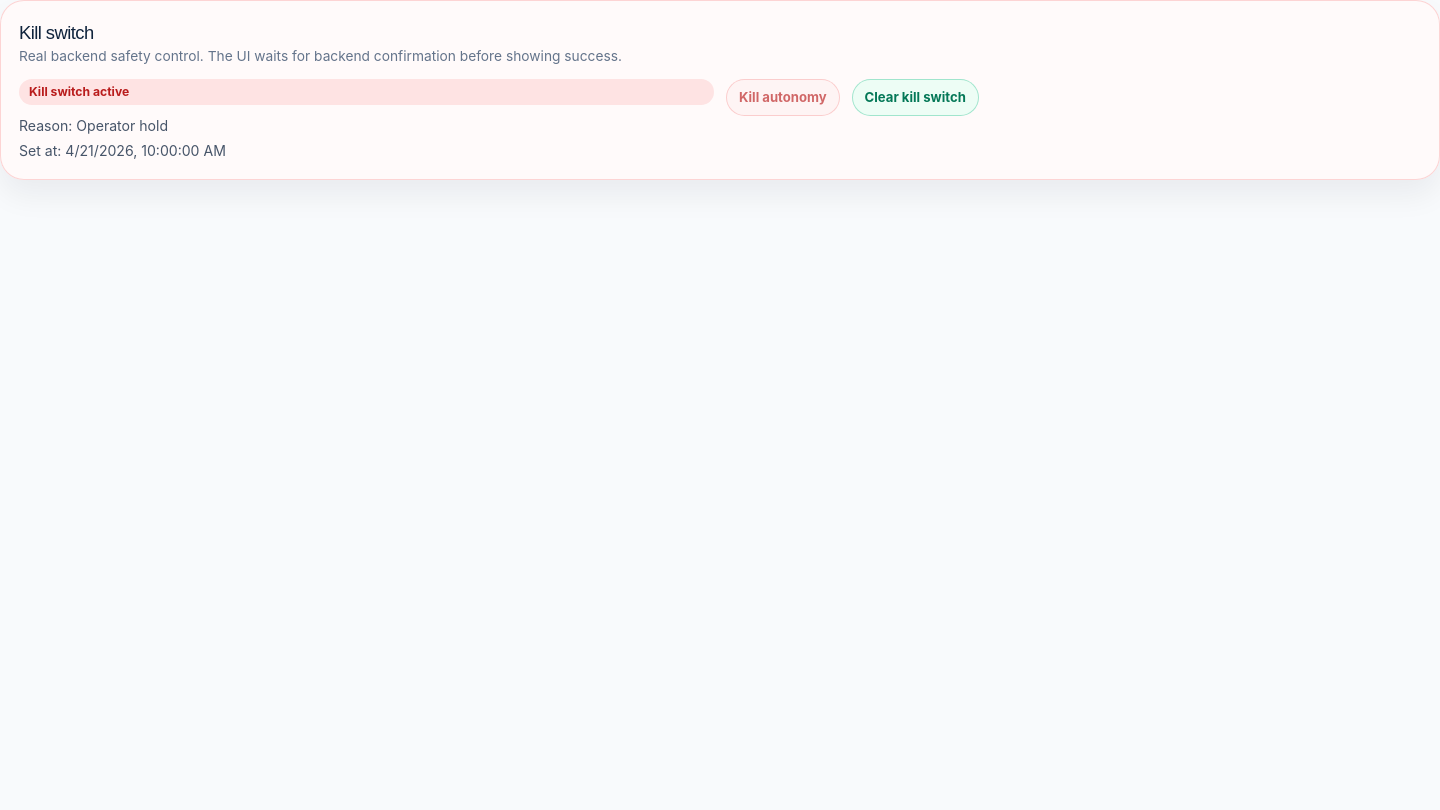
Test: opens dialog on Clear kill switch and calls onSetKillSwitch with null reason
The width and height of the screenshot is (1440, 810).
Later steps or results of the test are not shown.
Check: the button "Kill autonomy" is disabled, box [726, 79, 840, 116]
What coordinates should you click on to do the following:
click the button "Clear kill switch"
I would click on:
 (915, 97)
Its box is [852, 79, 979, 116].
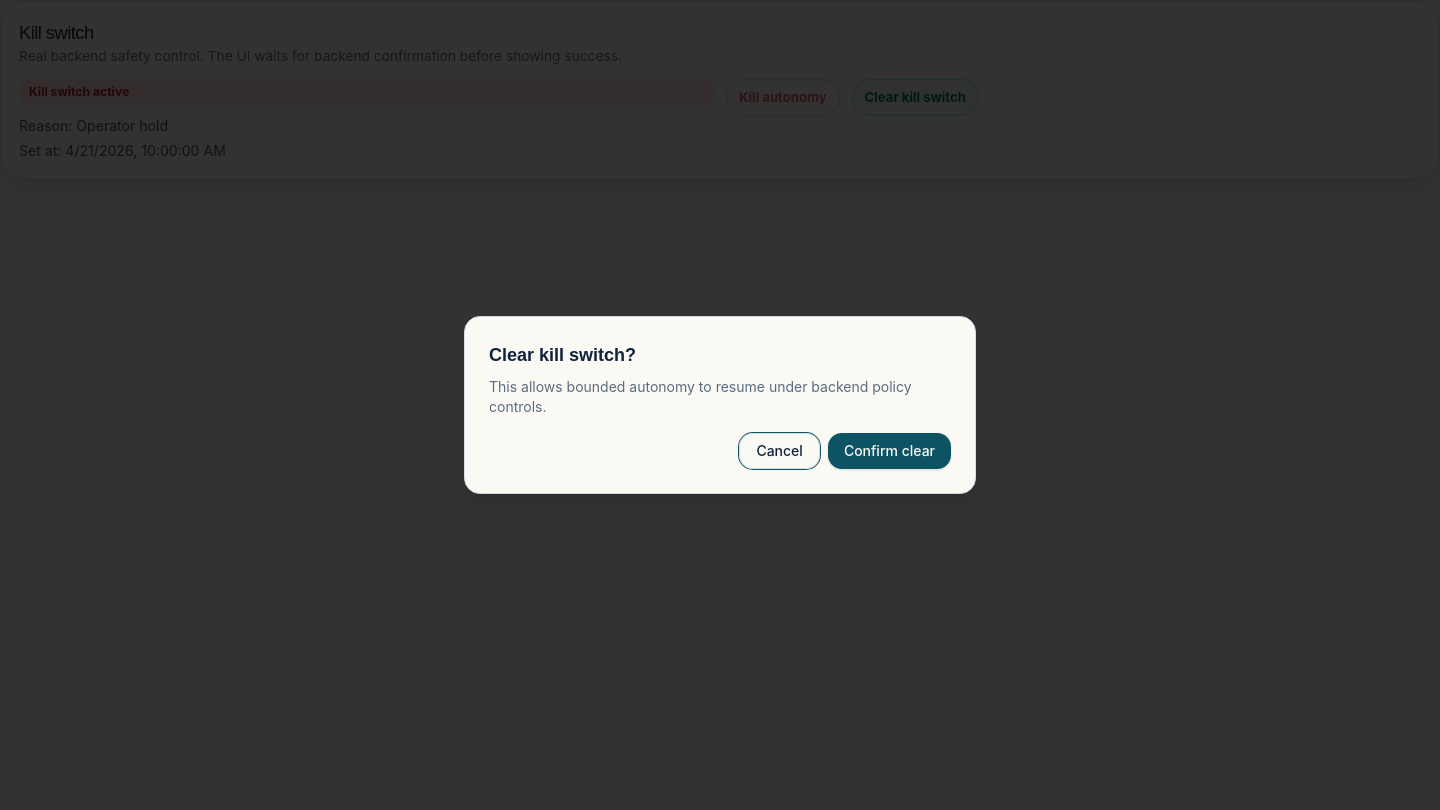
Check: the heading "Clear kill switch?" is shown, box [489, 345, 636, 365]
